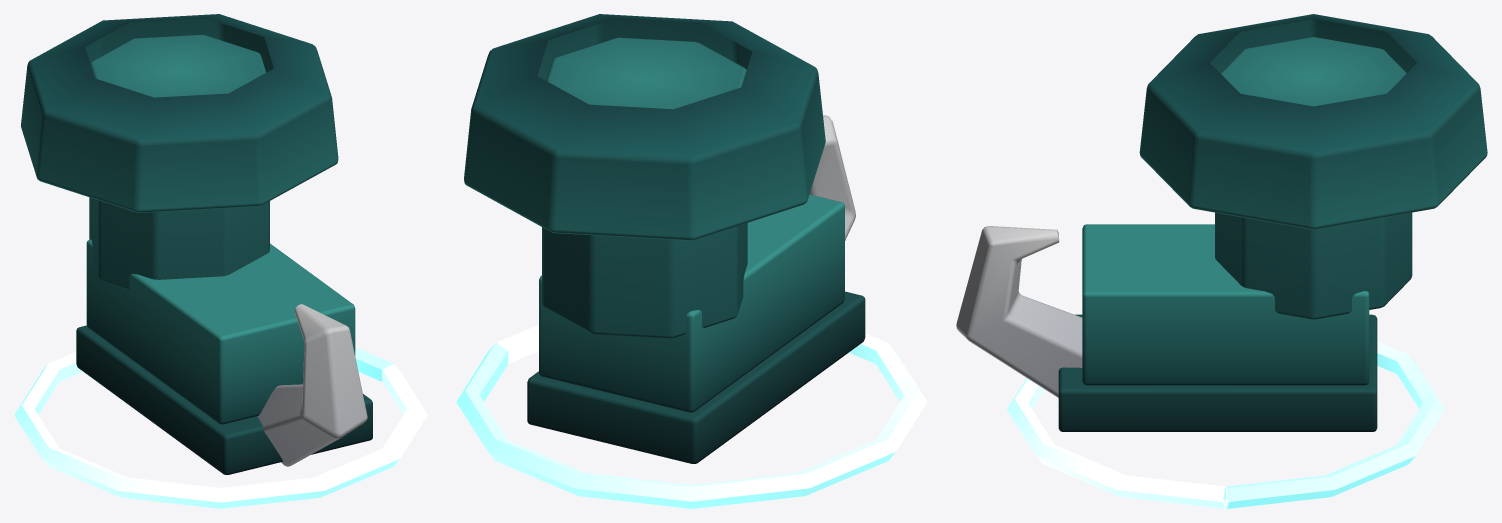
File: lg_wakewalkers.glb
3 views of the same model, side by side, from view 1: azimuth 30°, elevation 25°; view 2: azimuth 150°, elevation 25°; view 3: azimuth 270°, elevation 25° (orthographic). The views are drawn at different scales.
Visible parts, largest first — view 1: lg_wakewalkers, lg_wakewalkers_glow; view 2: lg_wakewalkers, lg_wakewalkers_glow; view 3: lg_wakewalkers, lg_wakewalkers_glow.
Boxes of the visible parts, x1,y1,x2,y2 form: lg_wakewalkers: [21, 14, 372, 474]; lg_wakewalkers_glow: [14, 347, 427, 508]; lg_wakewalkers: [464, 14, 865, 463]; lg_wakewalkers_glow: [456, 325, 927, 508]; lg_wakewalkers: [956, 14, 1487, 431]; lg_wakewalkers_glow: [1007, 341, 1444, 508].
Bounding box in the file's own units: 1.1 × 0.9885 × 1.33.
